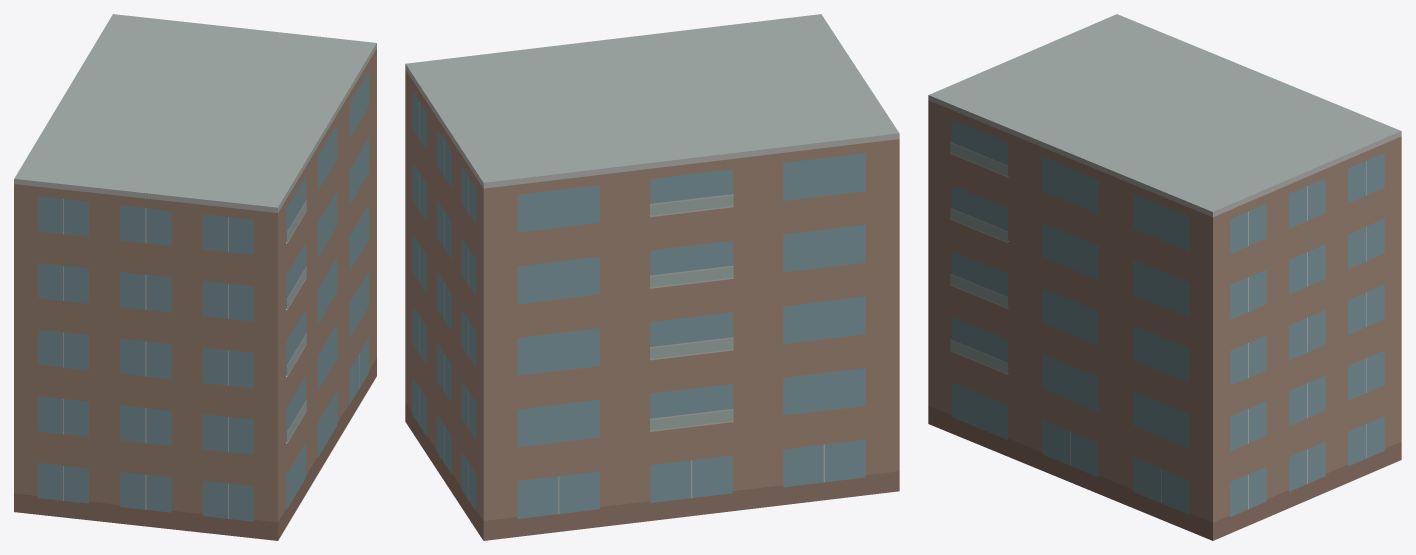
File: survey-upis-32845330.glb
3 renders of one model, left to right at view 1: azimuth 30°, elevation 25°; view 2: azimuth 150°, elevation 25°; view 3: azimuth 270°, elevation 25°, orthographic. The views are drawn at different scales.
Parts seen in each view (by area): view 1: survey-upis-32845330.tmp; view 2: survey-upis-32845330.tmp; view 3: survey-upis-32845330.tmp.
Part boxes in pixels (x1,y1,x2,y2): survey-upis-32845330.tmp: [14, 14, 376, 540]; survey-upis-32845330.tmp: [405, 14, 899, 540]; survey-upis-32845330.tmp: [928, 14, 1401, 540].
Size of the model in its own units: 19.71 by 15.25 by 19.89.
